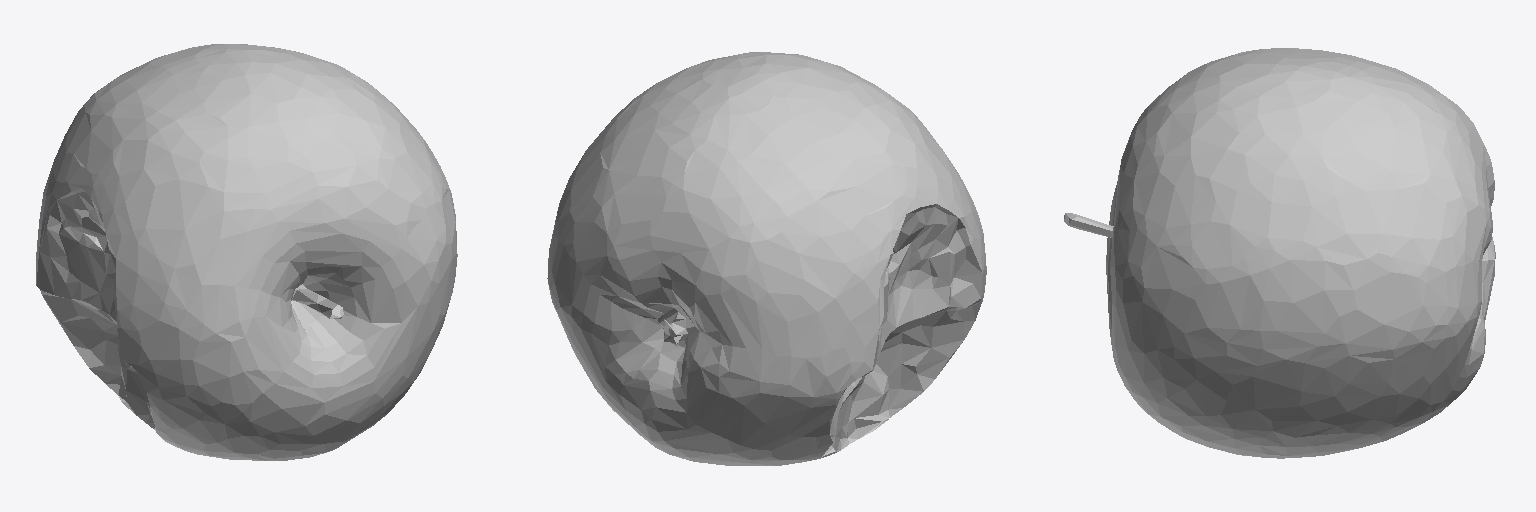
File: Apple.obj
3 renders of one model, left to right at view 1: azimuth 30°, elevation 25°; view 2: azimuth 150°, elevation 25°; view 3: azimuth 270°, elevation 25°, orthographic.
Visible parts, largest first — view 1: Apple; view 2: Apple; view 3: Apple.
Part boxes in pixels (bbox=[...]): Apple: bbox=[36, 44, 457, 460]; Apple: bbox=[547, 52, 986, 465]; Apple: bbox=[1064, 48, 1495, 458].
Size of the model in its own units: 0.7563 by 0.7644 by 0.8.